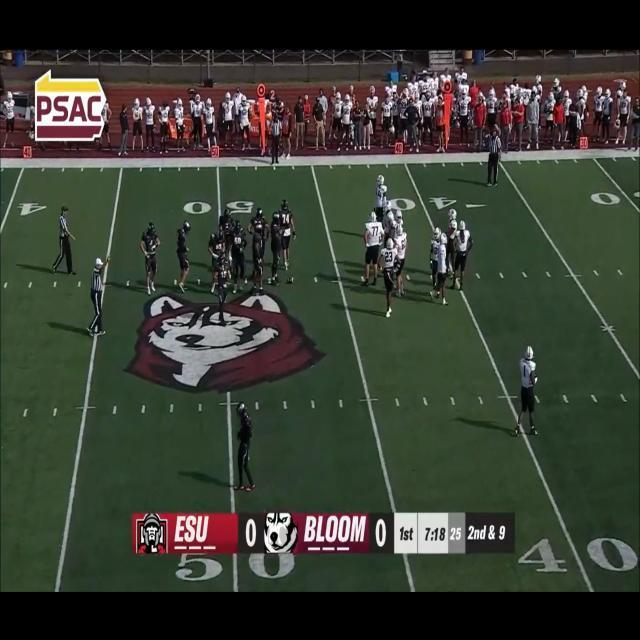football: (285, 272, 296, 288)
